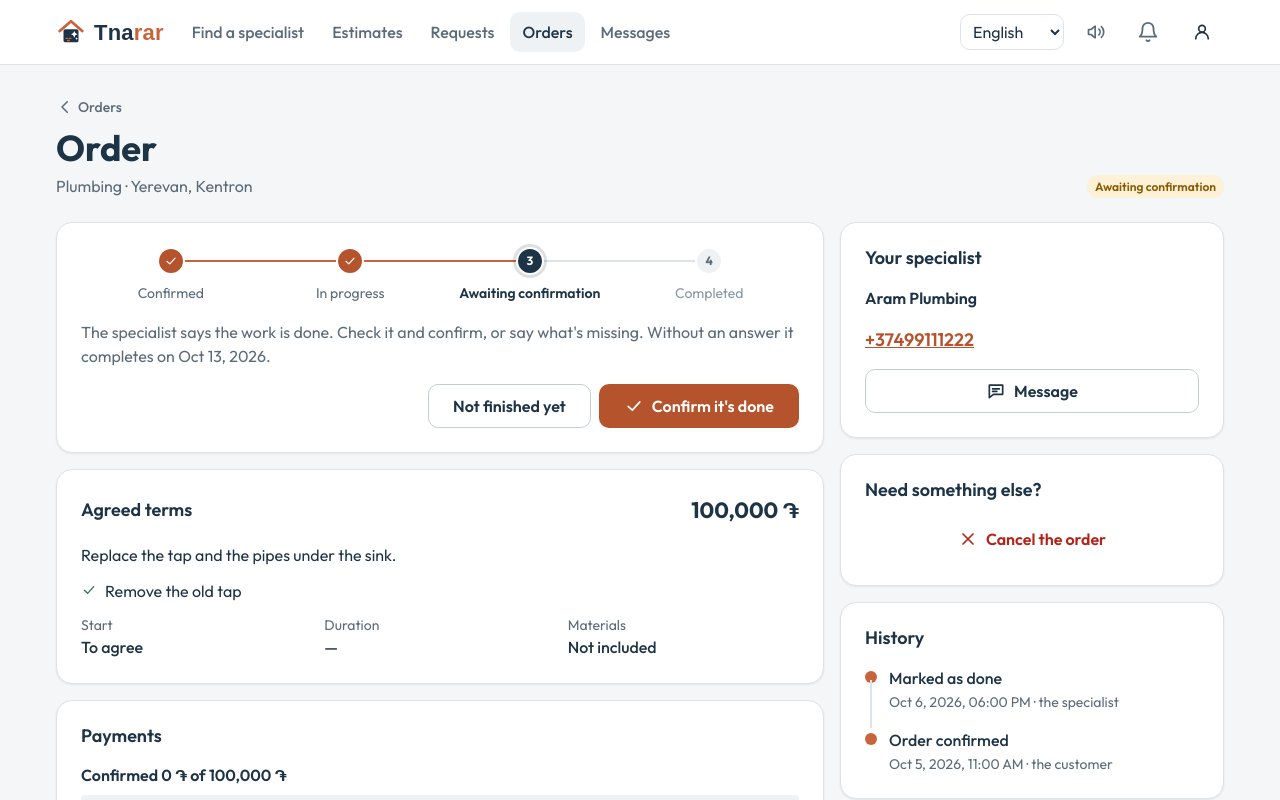
Test: Order steps › lets the customer confirm, or send it back with a reason
Click the button "Not finished yet". click: [510, 406]
box: [428,384,591,428]
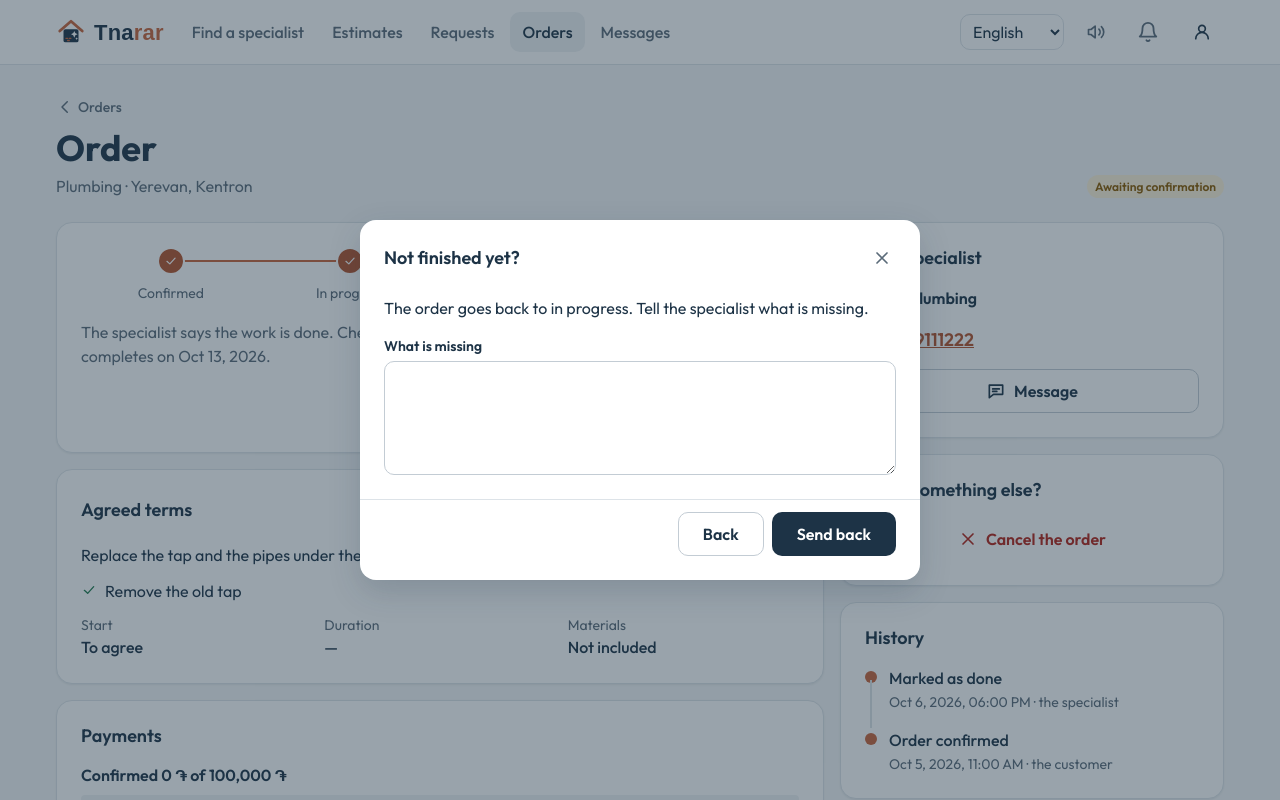
Click the button "Send back". click: [834, 534]
box: [772,512,896,556]
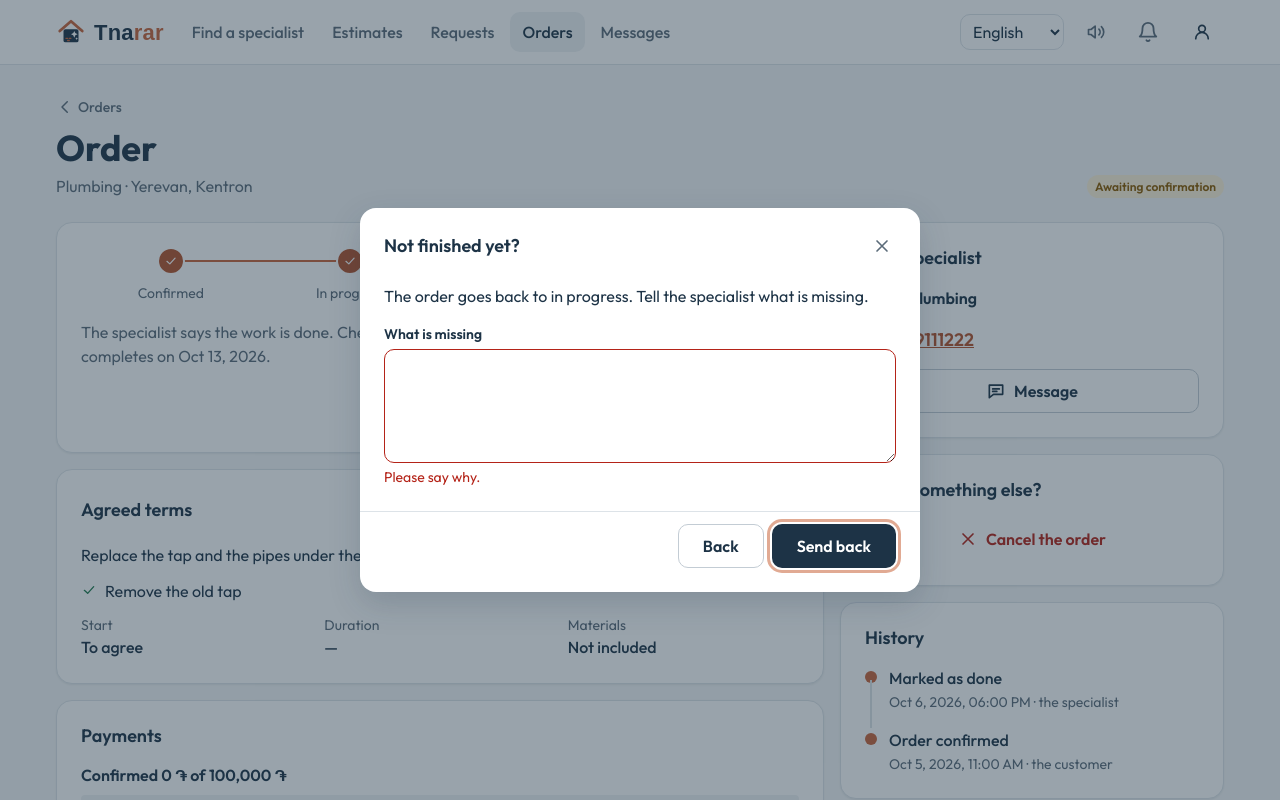
Check: the text "Please say why." is shown, box [384,468,480,486]
Type "The tap still drips" into the text box labelled "What is missing". click: [640, 406]
box: [384,349,896,463]
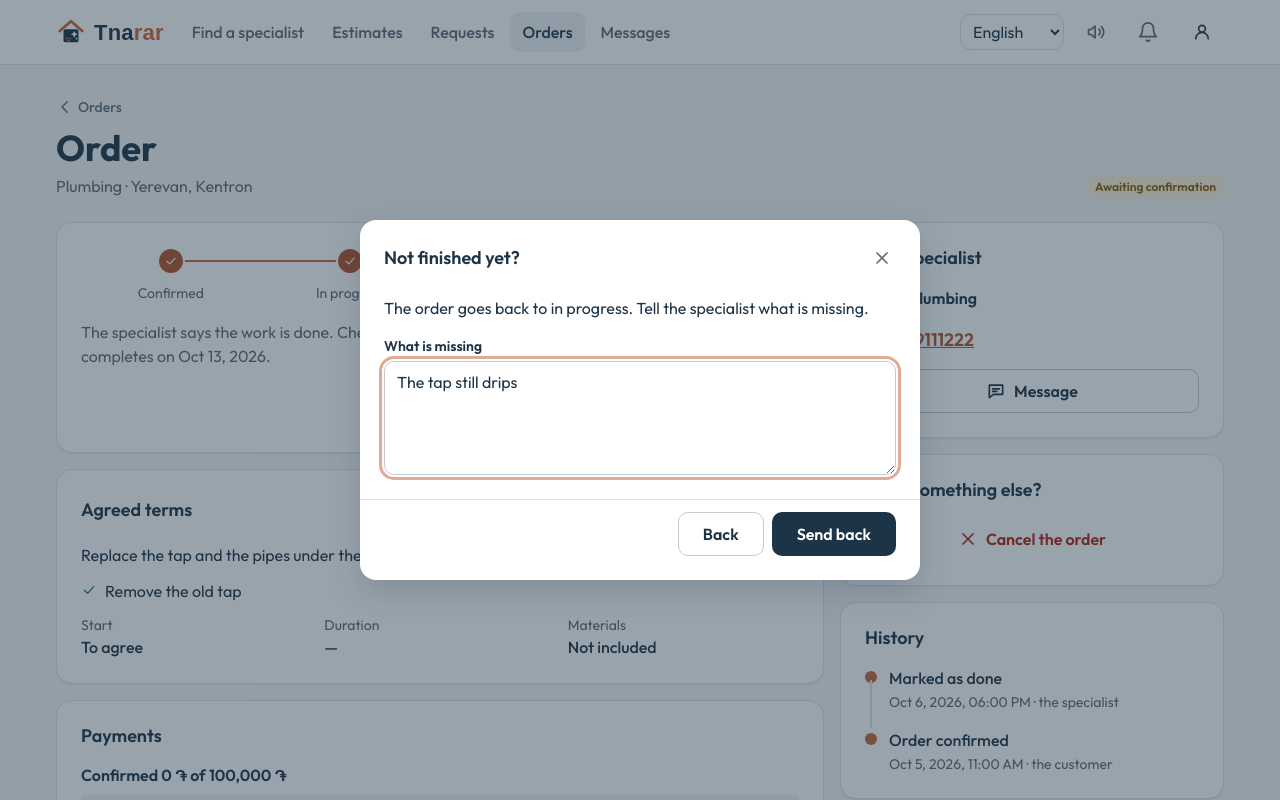
Click the button "Send back". click: [834, 534]
box: [772,512,896,556]
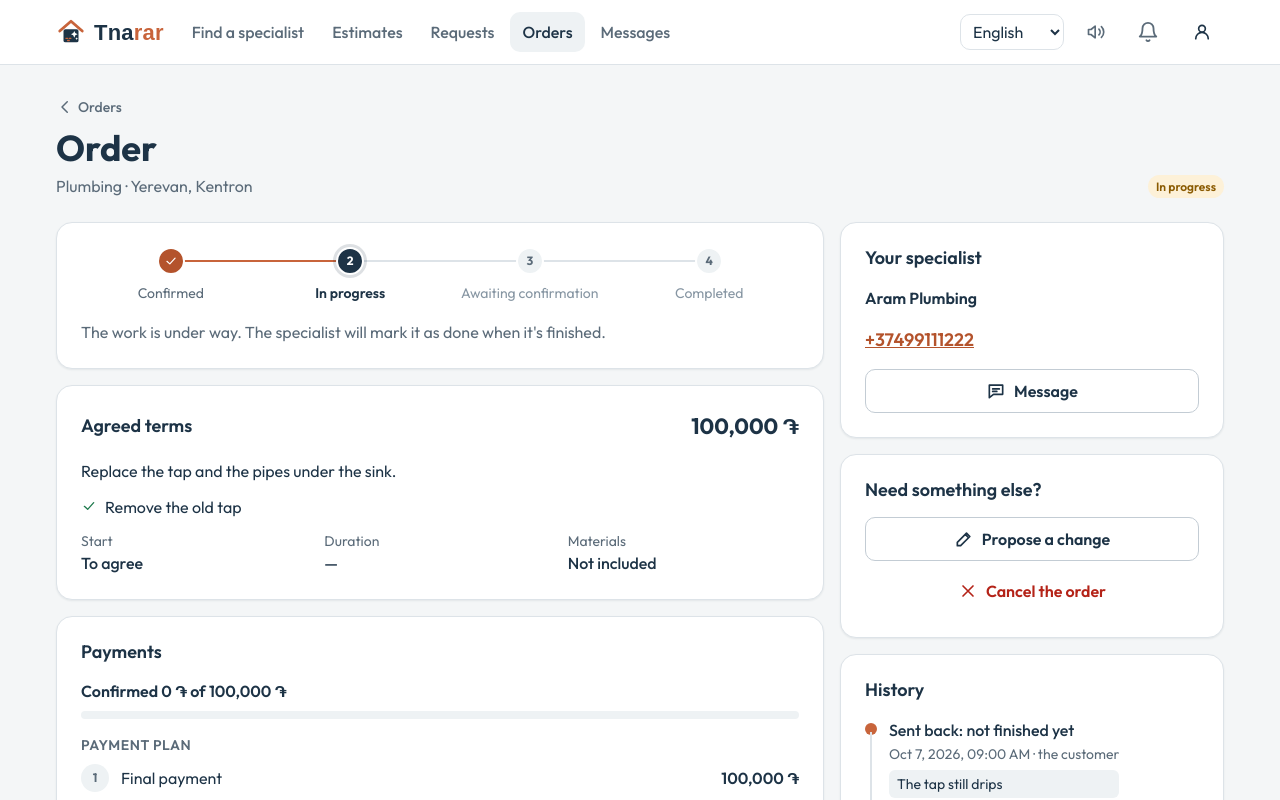
Check: the dialog is gone
Check: the text "Sent back: not finished yet" is shown, box [889,720,1074,740]
Check: the text "The tap still drips" is shown, box [889,770,1119,798]
